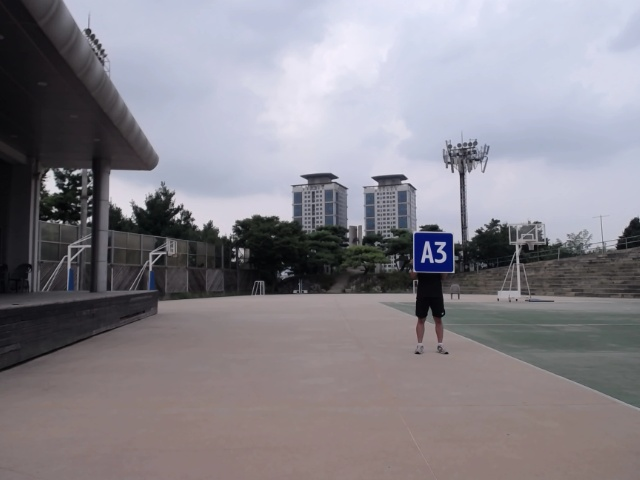delivery_a3: (413, 231, 455, 274)
